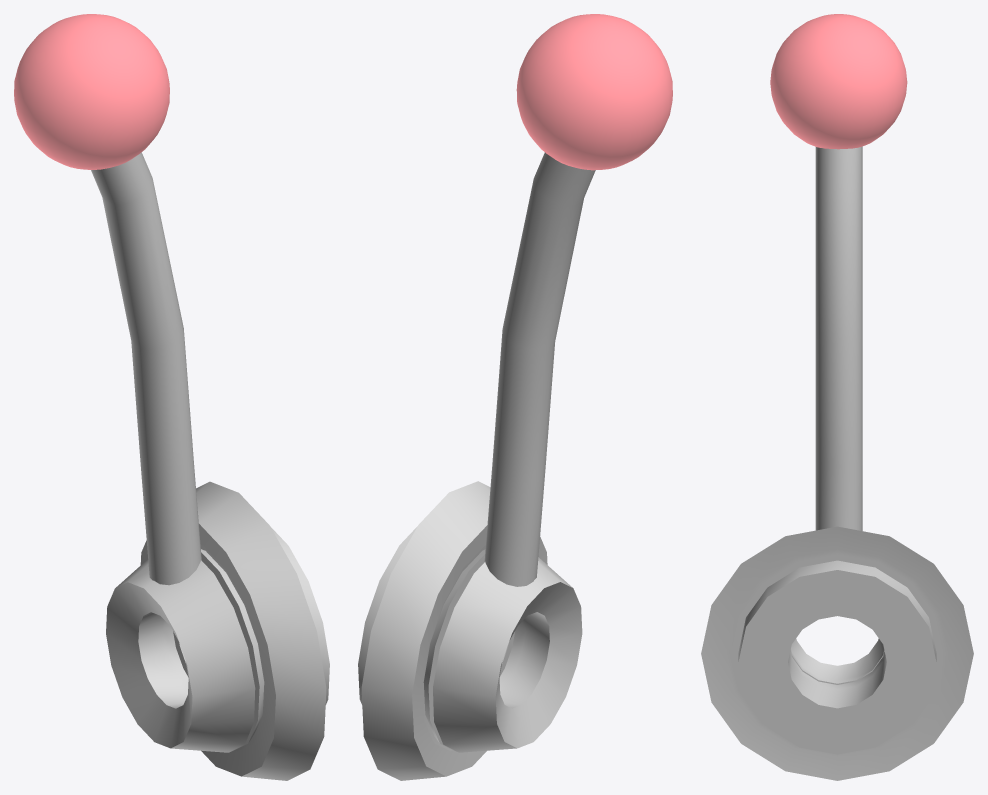
File: handle.gltf
The picture shows the model from 3 angles, left to right: view 1: azimuth 30°, elevation 25°; view 2: azimuth 150°, elevation 25°; view 3: azimuth 270°, elevation 25°; orthographic projection. The views are drawn at different scales.
Parts seen in each view (by area): view 1: Boolean, Tube.2, Boolean.1, Sphere; view 2: Boolean, Tube.2, Boolean.1, Sphere; view 3: Boolean, Tube.2, Sphere, Boolean.1.
Part boxes in pixels (x1,y1,x2,y2): Boolean: [140, 481, 329, 780]; Tube.2: [91, 152, 201, 585]; Boolean.1: [106, 559, 255, 752]; Sphere: [14, 14, 169, 169]; Boolean: [358, 481, 547, 780]; Tube.2: [484, 152, 595, 586]; Boolean.1: [433, 557, 582, 752]; Sphere: [516, 14, 672, 170]; Boolean: [701, 526, 973, 780]; Tube.2: [815, 146, 862, 530]; Sphere: [770, 14, 907, 149]; Boolean.1: [790, 638, 884, 684].
Size of the model in its own units: 0.8835 by 2.61 by 0.9349.
